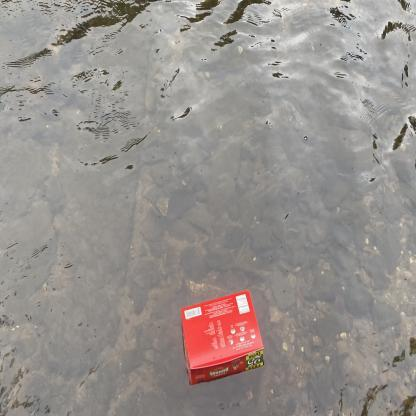trash: (178, 286, 266, 386)
